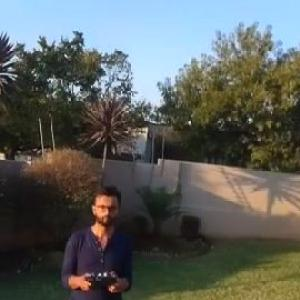follow: (56, 181, 136, 299)
